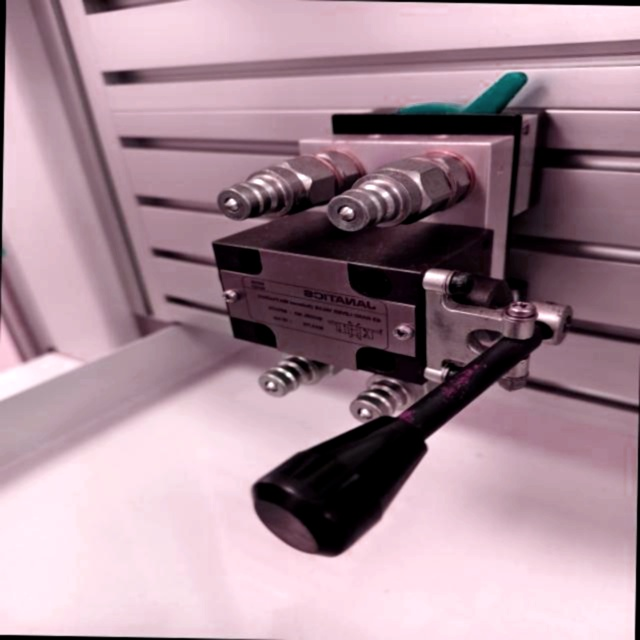4by3 hand lever valve: (195, 56, 580, 563)
